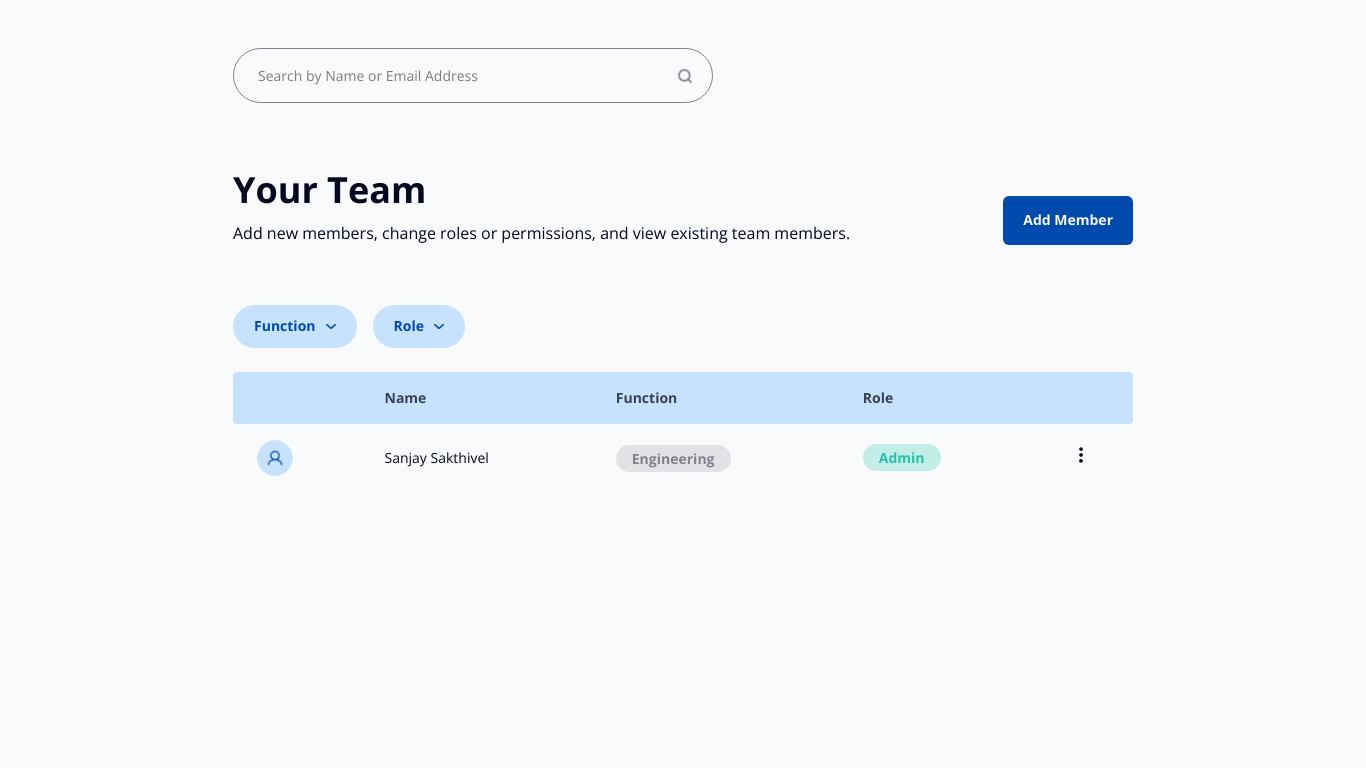
Test: Team Management App › successful edit shows toast and updates table row
Expected: the text "Sanjay Sakthivel" is shown, 360,424 -> 592,492
Click the button with alt text "trigger": (1081,455) 1071,445 -> 1091,465
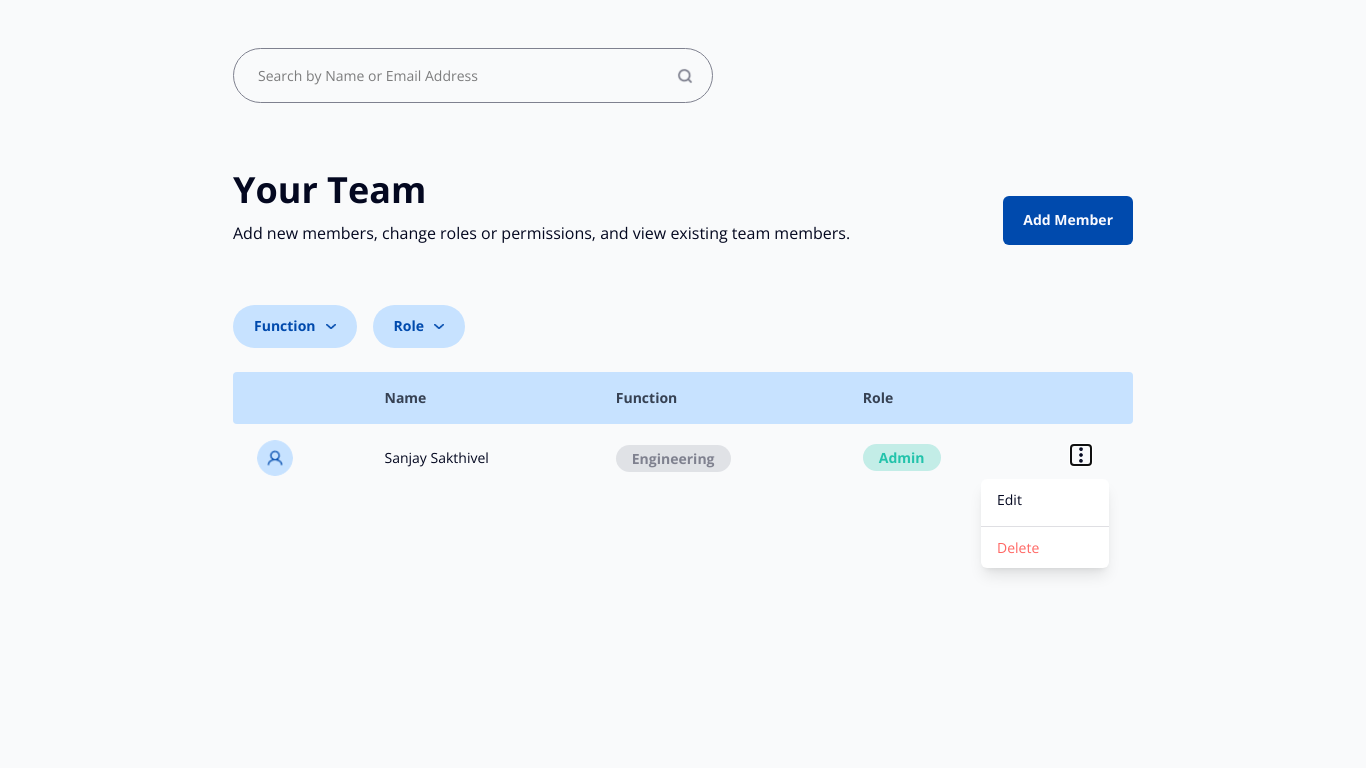
Click the button "Edit": (1045,499) 981,483 -> 1109,516
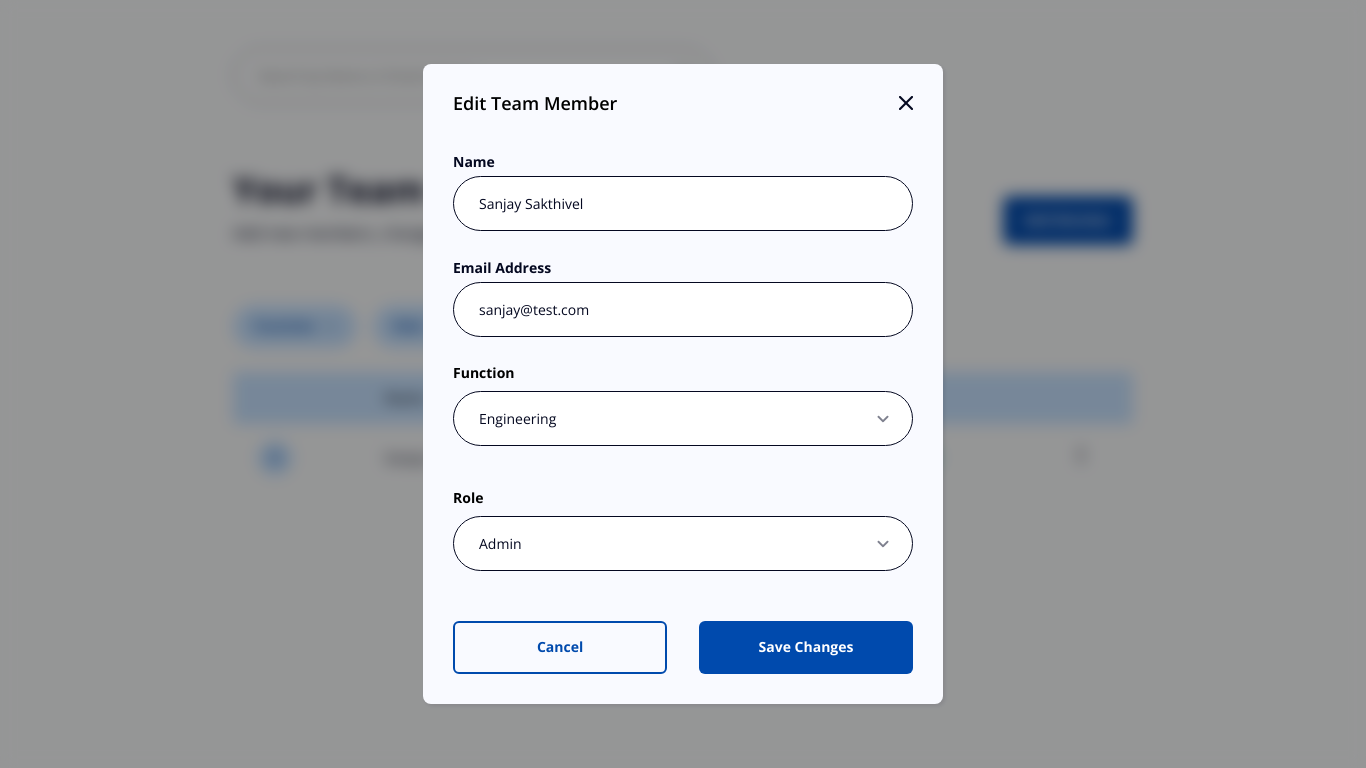
Replace the text in the field with placeholder "Full Name" with "Sanjay Updated": (683,204) 453,176 -> 913,231
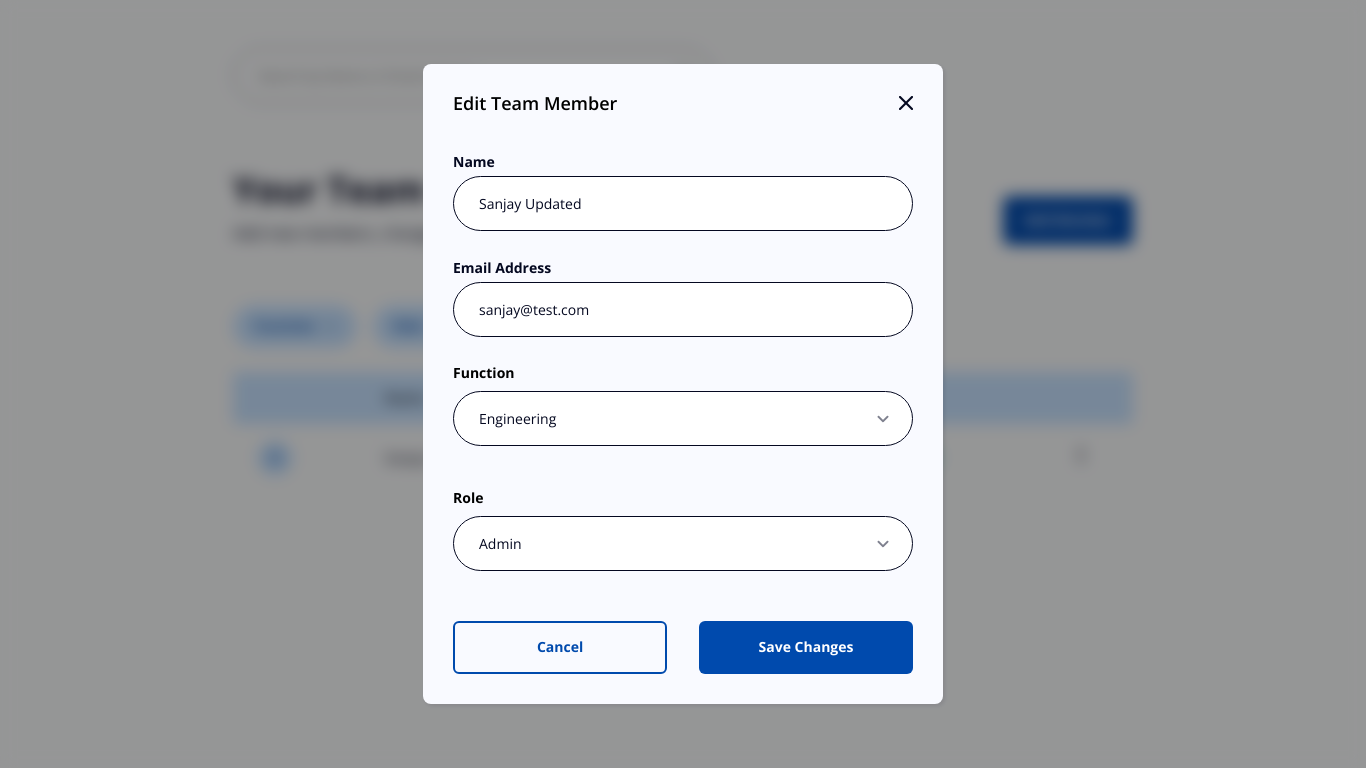
Click the button "Save Changes": (806,648) 699,621 -> 913,674
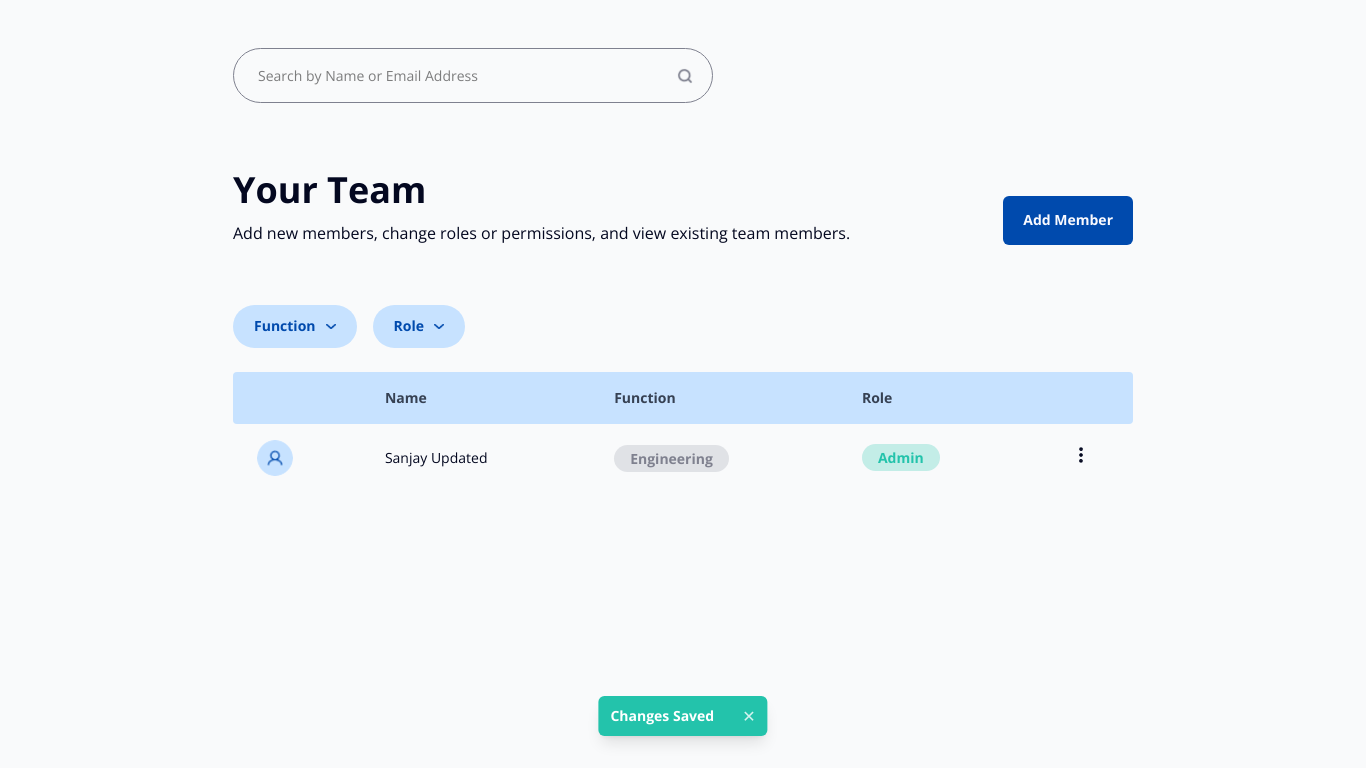
Now the text "Changes Saved" is shown, box 610,706 -> 714,726
Now the text "Sanjay Updated" is shown, box 361,424 -> 590,492
